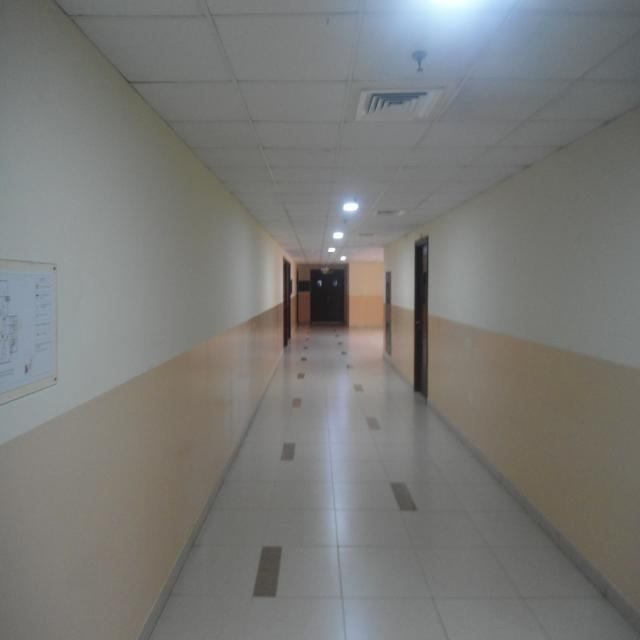door: (0, 256, 60, 403), (304, 260, 349, 324), (414, 240, 431, 407), (282, 258, 292, 344)
light: (422, 0, 504, 31), (342, 200, 360, 213), (332, 229, 350, 241), (324, 243, 337, 255)
wall: (3, 0, 305, 640), (381, 105, 640, 637), (342, 246, 389, 333)
